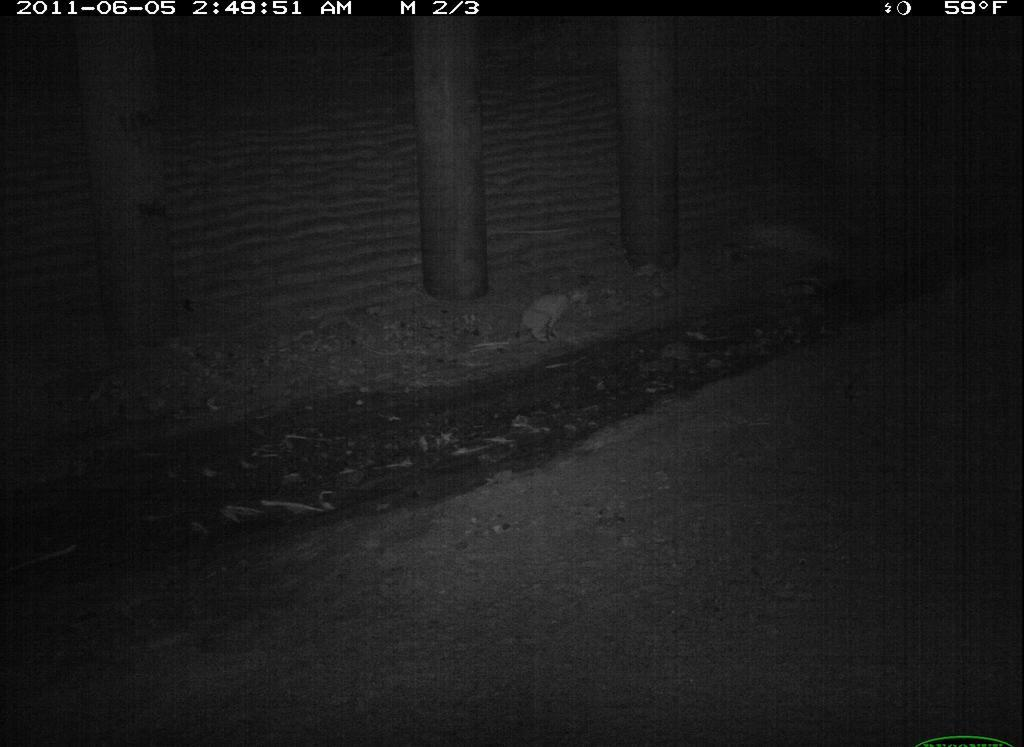bobcat: (1022, 562, 1024, 698)
